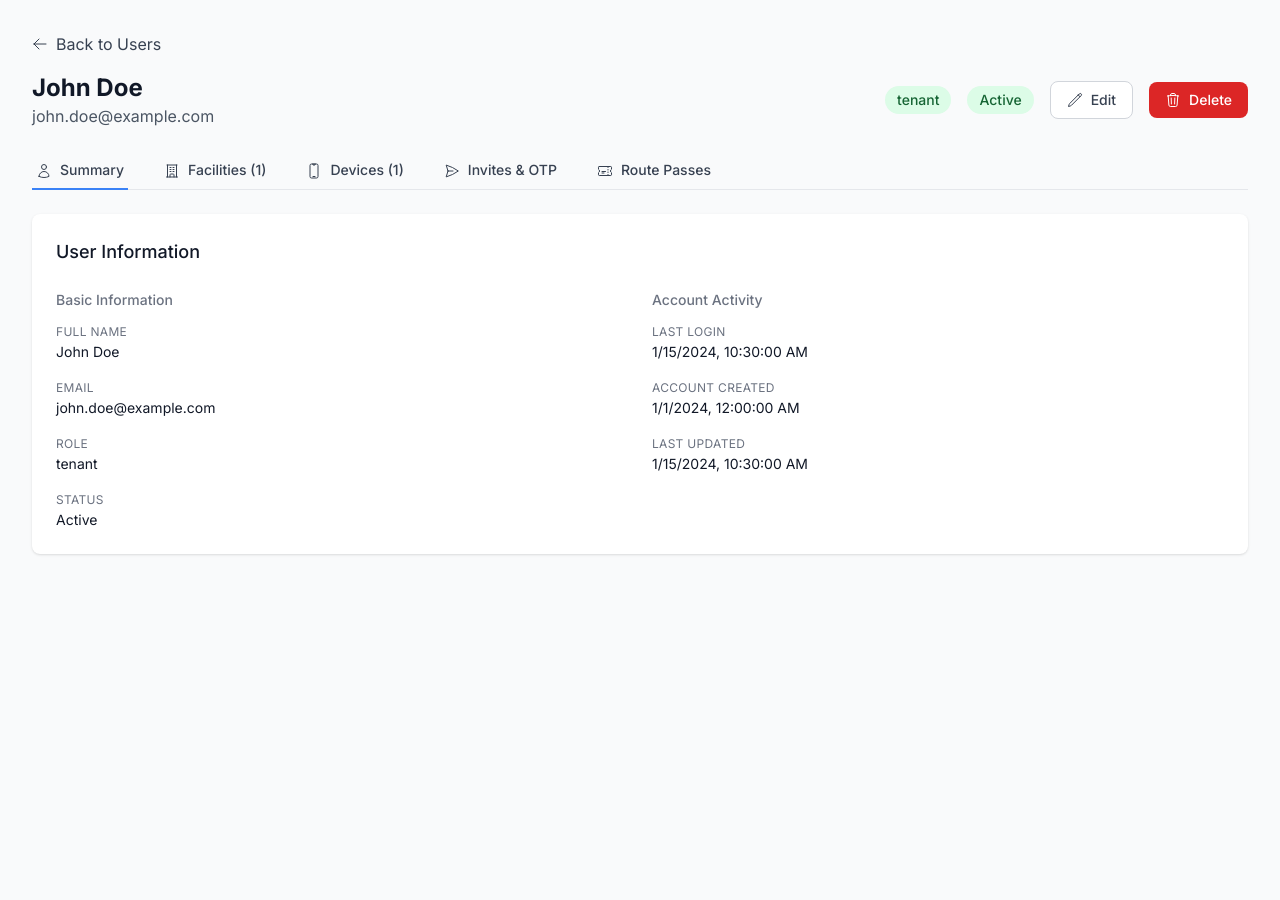
Test case: UserDetailsPage › Tabs › should switch to facilities tab when clicked
What coordinates should you click on to do the following:
click the button "Facilities (1)"
I would click on:
 (215, 171)
Its box is [160,152,270,190].
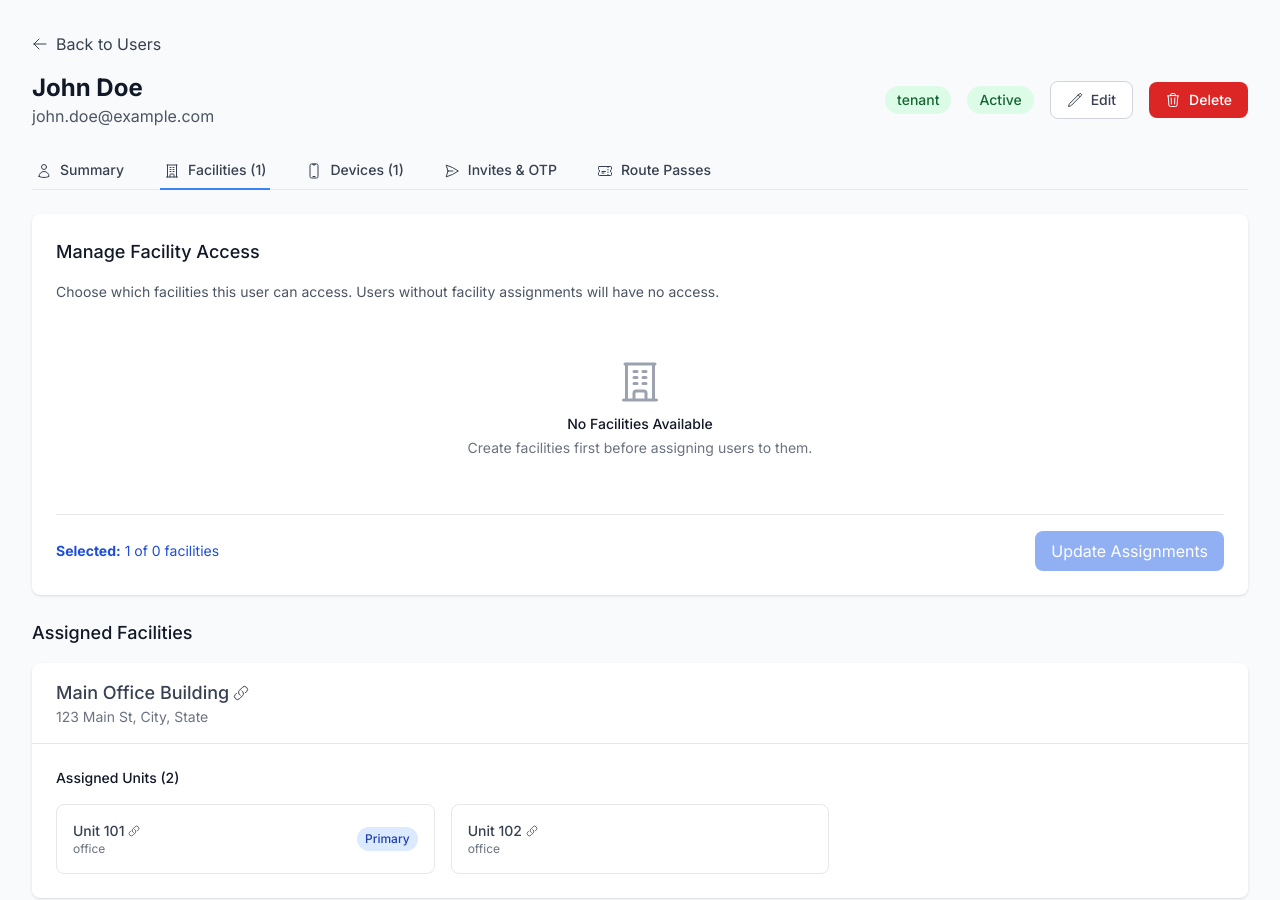
Expected: the button "Main Office Building" is shown, [56,679,249,707]
Expected: the heading "Assigned Units (2)" is shown, [56,769,179,786]
